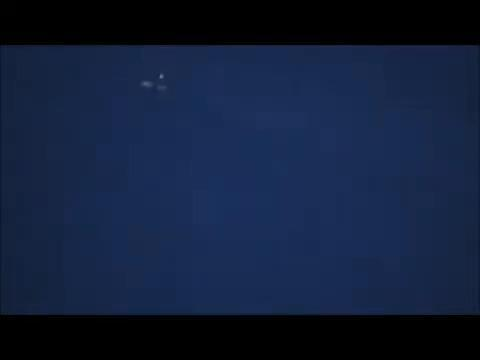Plane: (127, 63, 184, 106)
